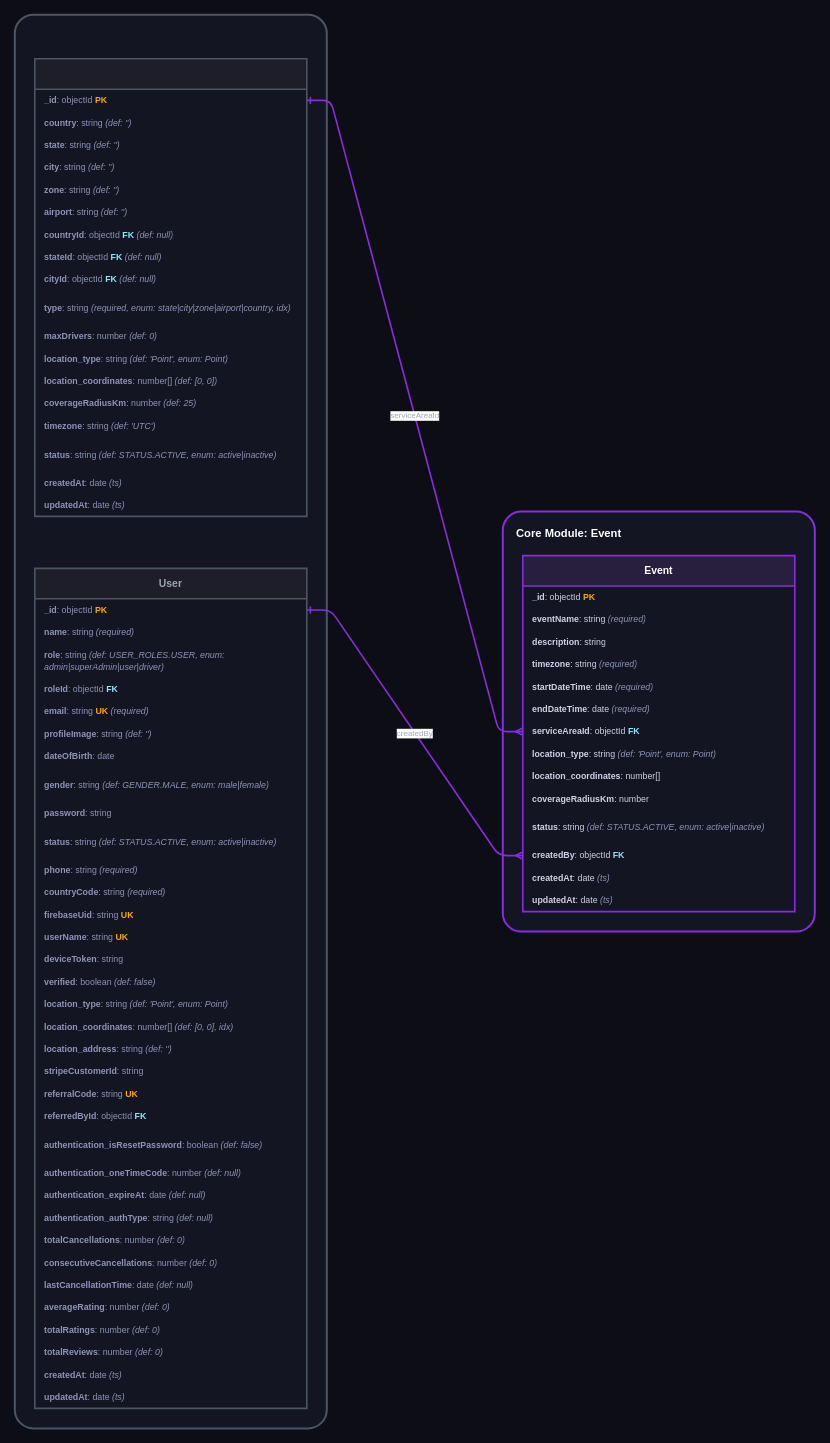
Image size: 830x1443. Some labels were removed from this diagram. The box of each missing label's shape, as (x1, y1, x2, y2) in pixels:
Parent Lookups / External Dependencies: (13, 13, 327, 1429)
ServiceArea: (34, 58, 307, 517)
